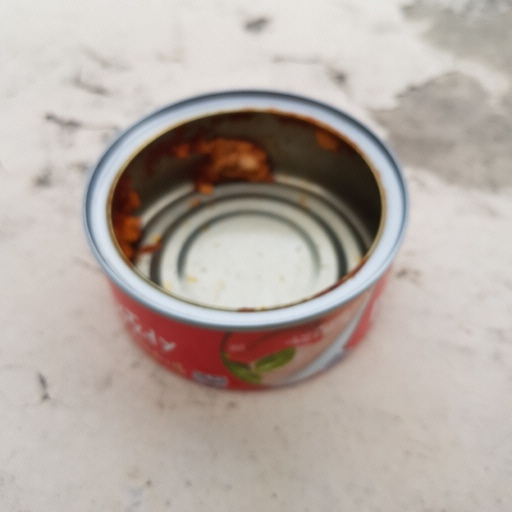Metal_1: (86, 91, 412, 392)
